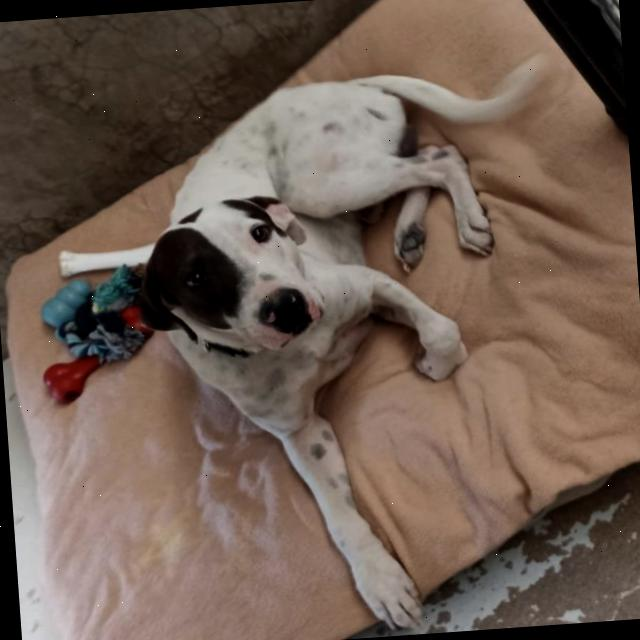labrador_retriever_dog: (111, 171, 334, 375)
